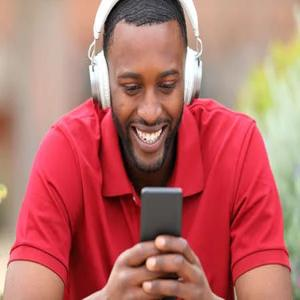Headphones: (85, 1, 203, 110)
